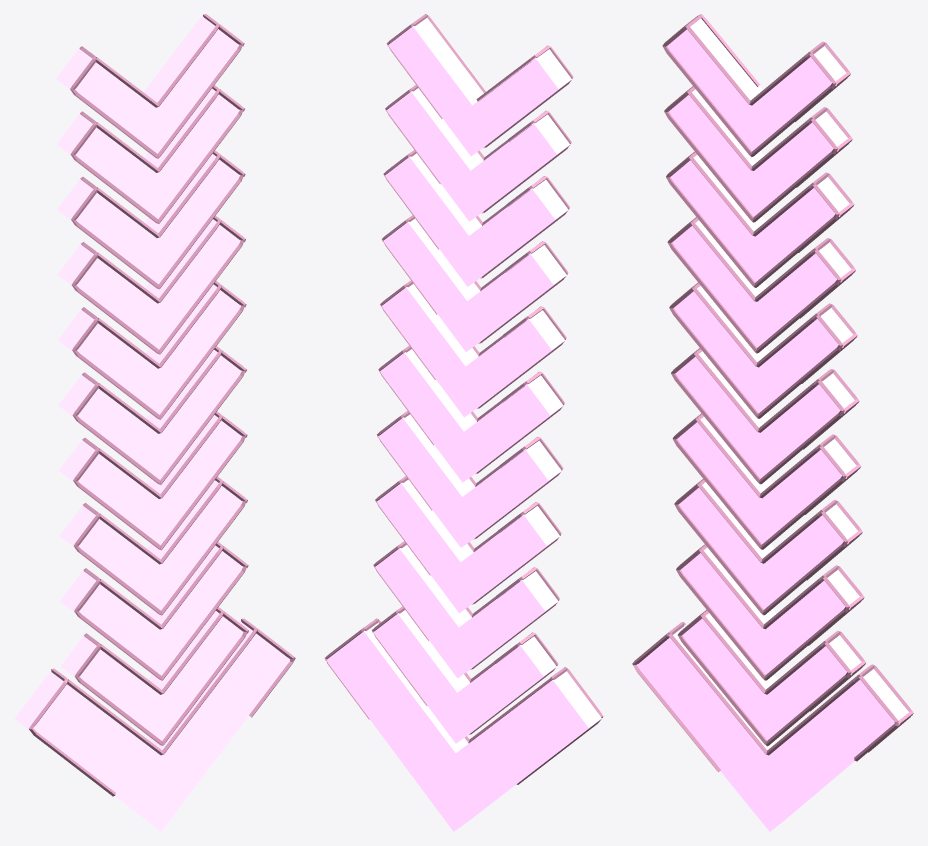
File: ArrowBackground.fbx
3 renders of one model, left to right at view 1: azimuth 30°, elevation 25°; view 2: azimuth 150°, elevation 25°; view 3: azimuth 330°, elevation 25°, orthographic.
Visible parts, largest first — view 1: Plane, GP_Layer; view 2: Plane, GP_Layer; view 3: Plane, GP_Layer.
Part boxes in pixels (x1,y1,x2,y2): Plane: (14, 15, 289, 831); GP_Layer: (29, 14, 295, 796); Plane: (326, 18, 601, 831); GP_Layer: (324, 14, 603, 784); Plane: (636, 18, 908, 831); GP_Layer: (632, 14, 913, 772).
Bounding box in the file's own units: 7.07 × 20.18 × 1.08.
